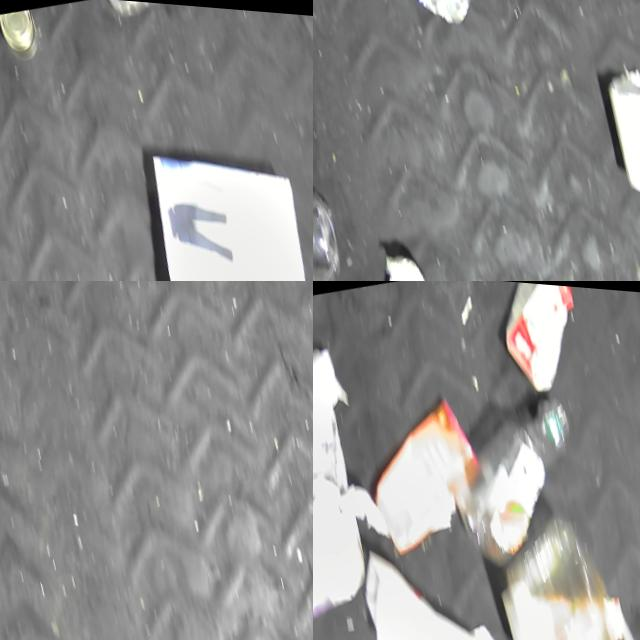can: (0, 1, 43, 66), (397, 0, 478, 30)
milk_jug: (351, 517, 522, 640)
plastic_bottle: (432, 377, 600, 574), (102, 0, 199, 21)
